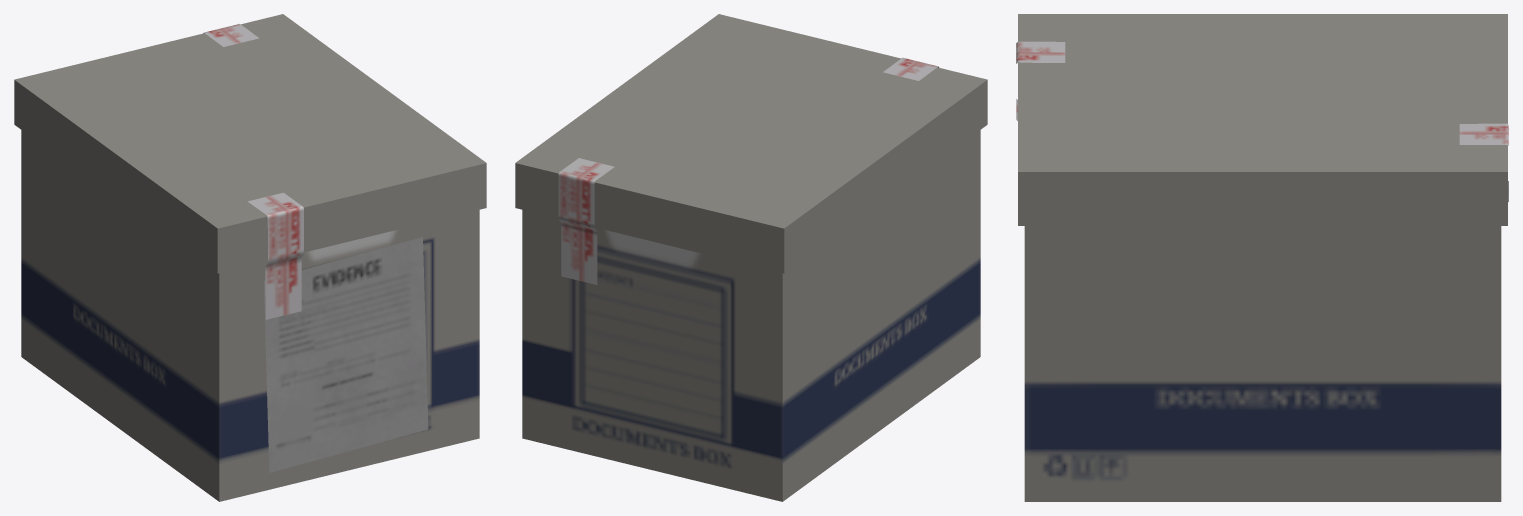
The model's file is FBX_BoxPortableH.fbx.
The picture shows the model from 3 angles, left to right: view 1: azimuth 30°, elevation 25°; view 2: azimuth 150°, elevation 25°; view 3: azimuth 270°, elevation 25°; orthographic projection. The views are drawn at different scales.
Parts seen in each view (by area): view 1: SM_BoxPortableH; view 2: SM_BoxPortableH; view 3: SM_BoxPortableH.
Boxes of the visible parts, x1=… form: SM_BoxPortableH: x1=14, y1=14, x2=486, y2=501; SM_BoxPortableH: x1=515, y1=14, x2=987, y2=501; SM_BoxPortableH: x1=1016, y1=14, x2=1508, y2=501.
Bounding box in the file's own units: 0.2815 × 0.2777 × 0.3712.
